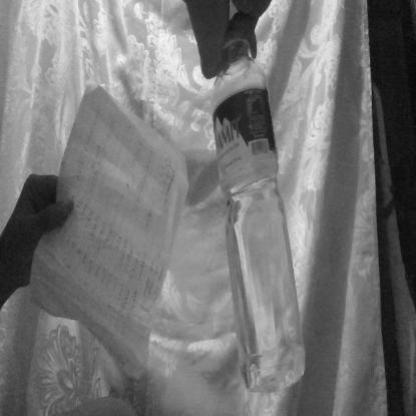Plastic Bottle: (203, 12, 323, 404)
